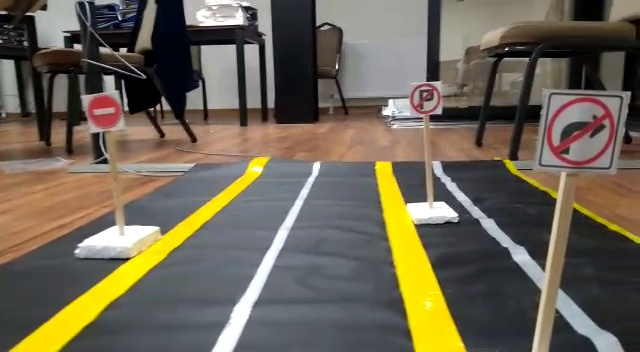girisi_olmayan_yol: (82, 90, 125, 131)
park_yapilmaz: (410, 80, 441, 115)
saga_donulmez: (541, 90, 616, 169)
